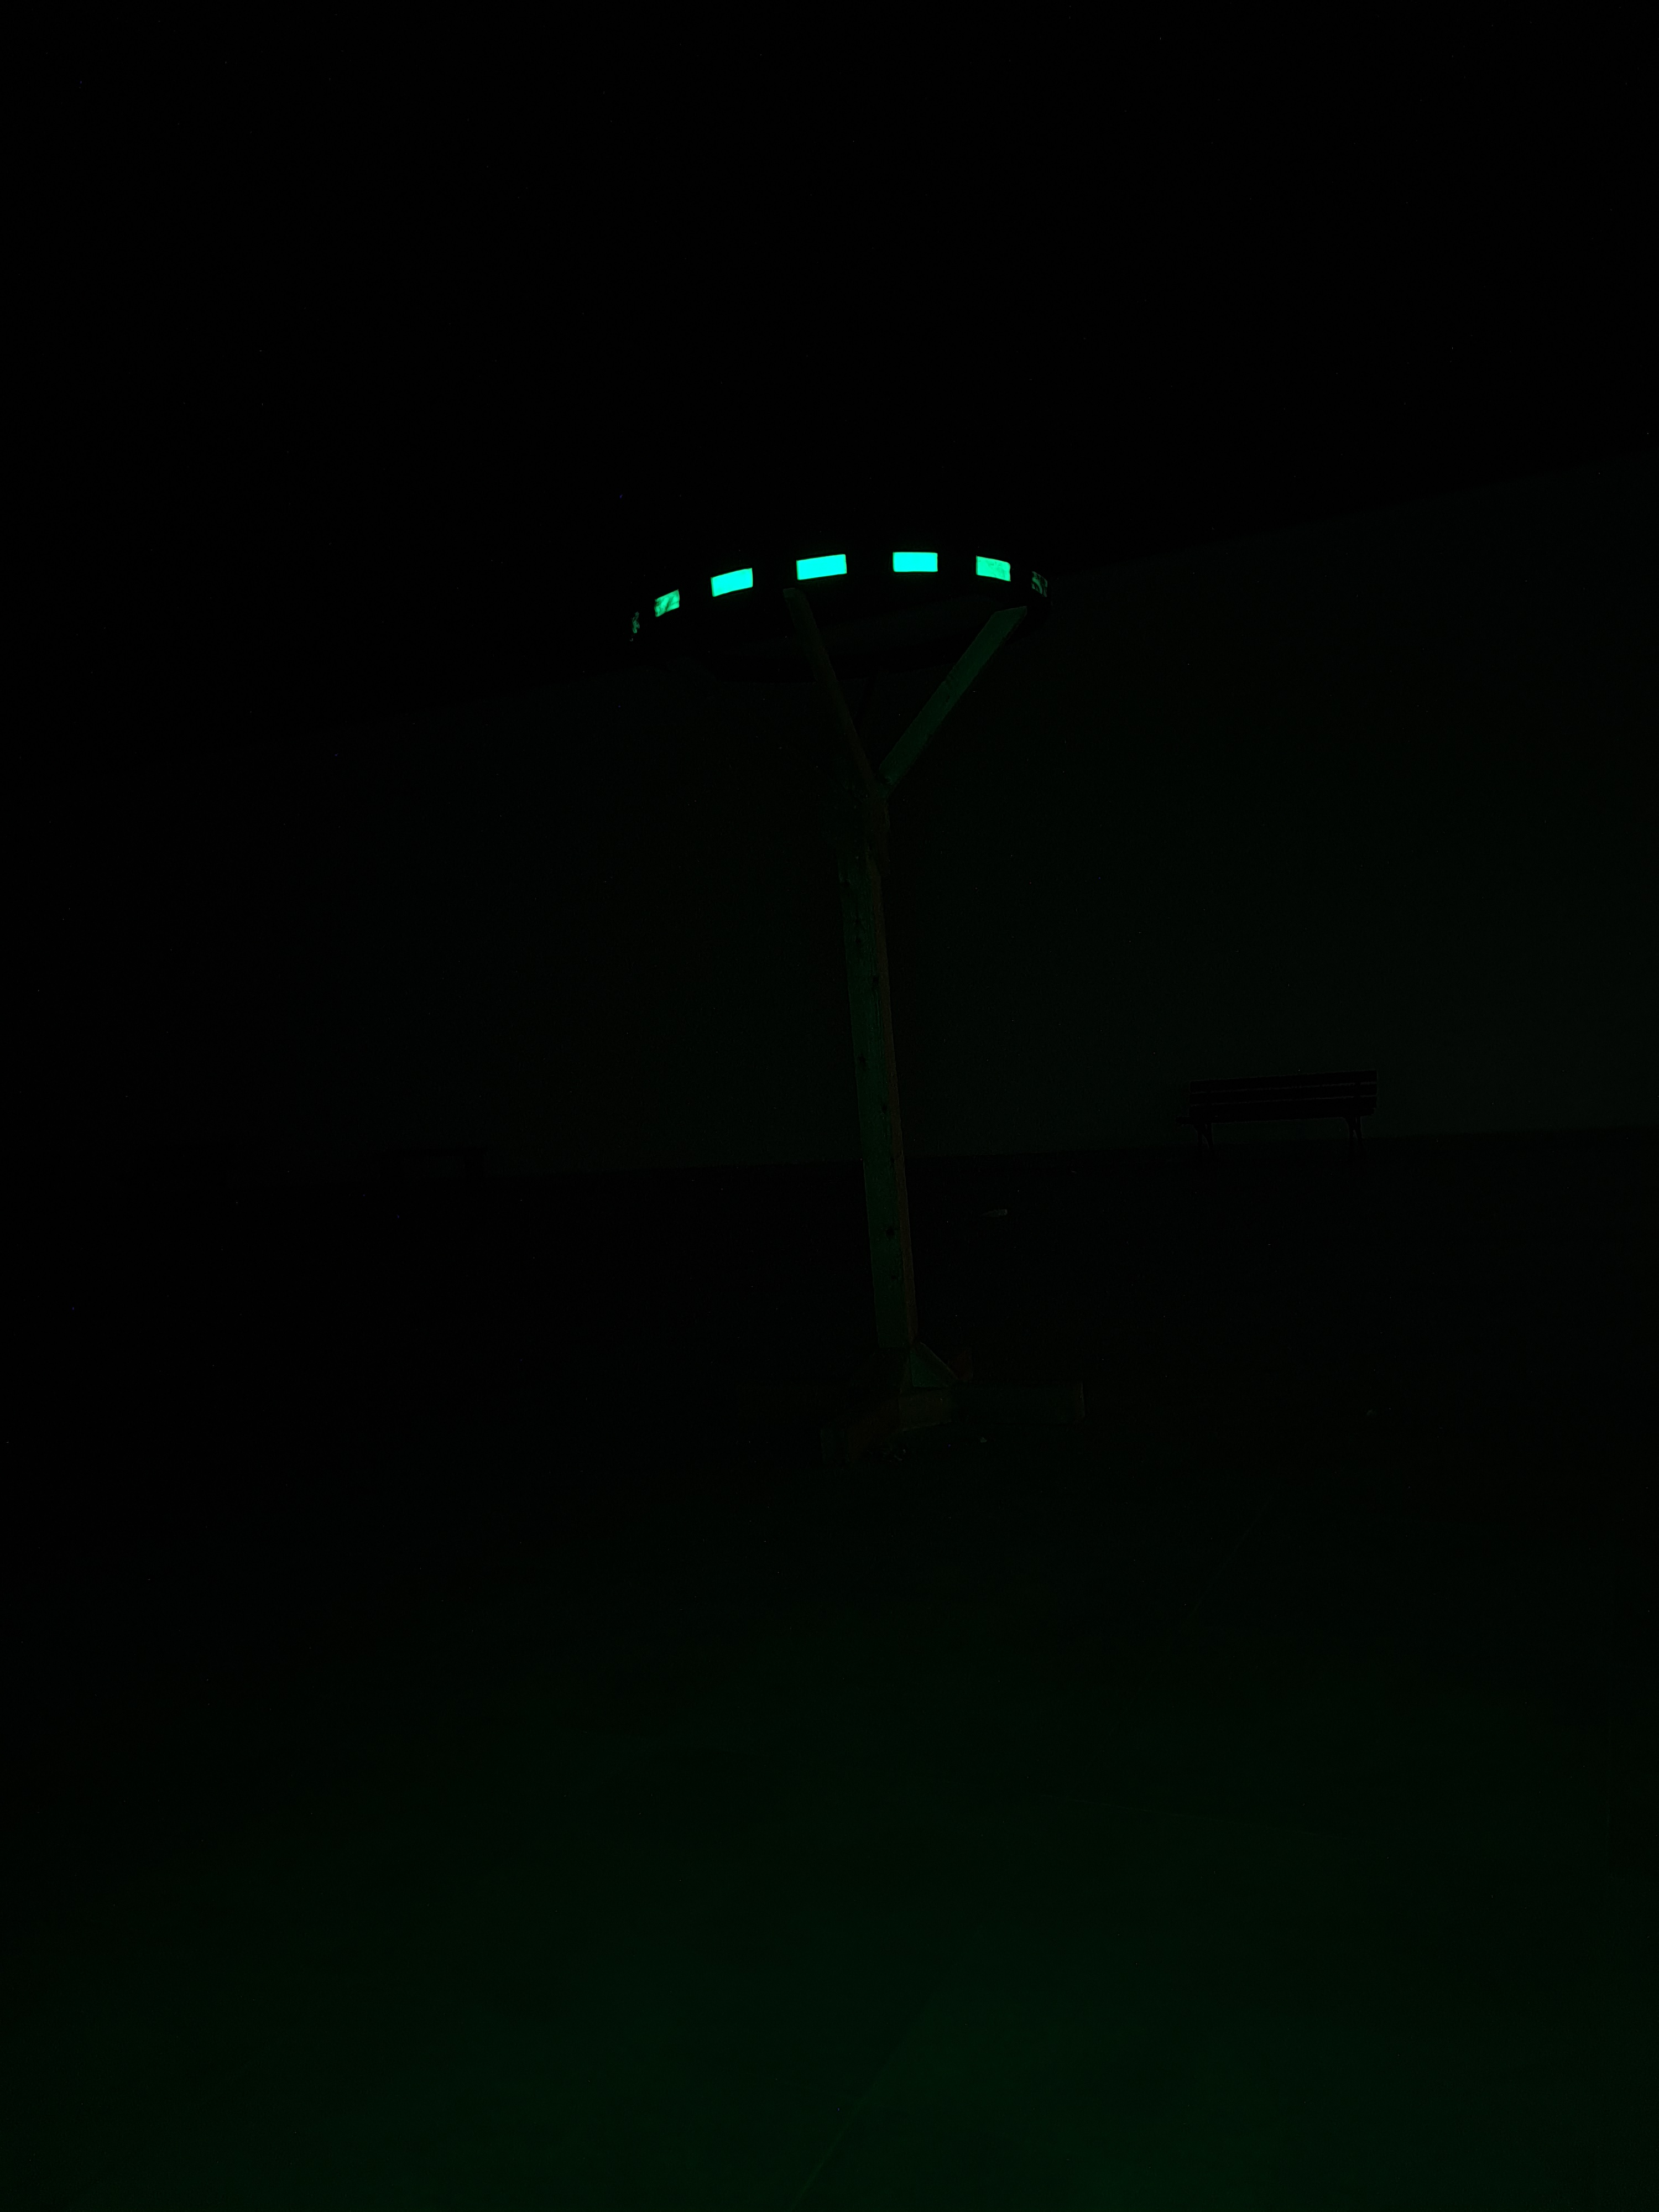hoop: (629, 547, 1051, 641)
